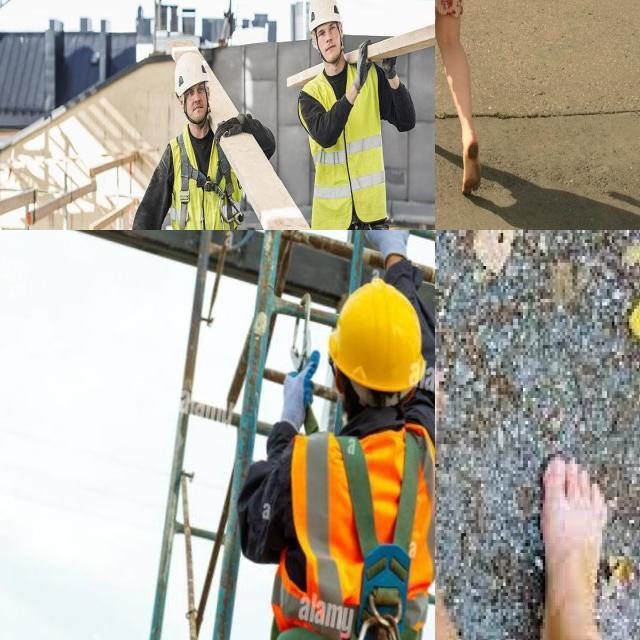Barefoots: (462, 135, 481, 195)
Harness: (338, 432, 426, 640)
No_Ear-Protection: (205, 82, 212, 102), (338, 20, 344, 38)
No_Glasses: (314, 21, 339, 39), (182, 84, 209, 100)
Sandals: (541, 454, 608, 640)
hand_noglove: (182, 79, 213, 127)
head_helmet: (172, 54, 215, 83), (310, 0, 345, 23)
person: (298, 0, 396, 230), (155, 45, 254, 230)
vest: (308, 63, 388, 214), (172, 135, 247, 230)
